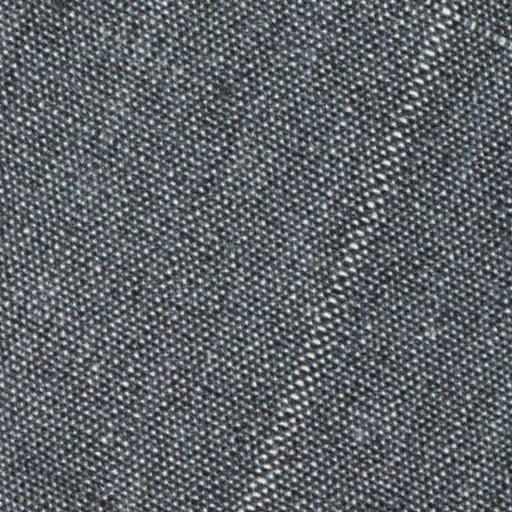slub: (245, 0, 464, 511)
